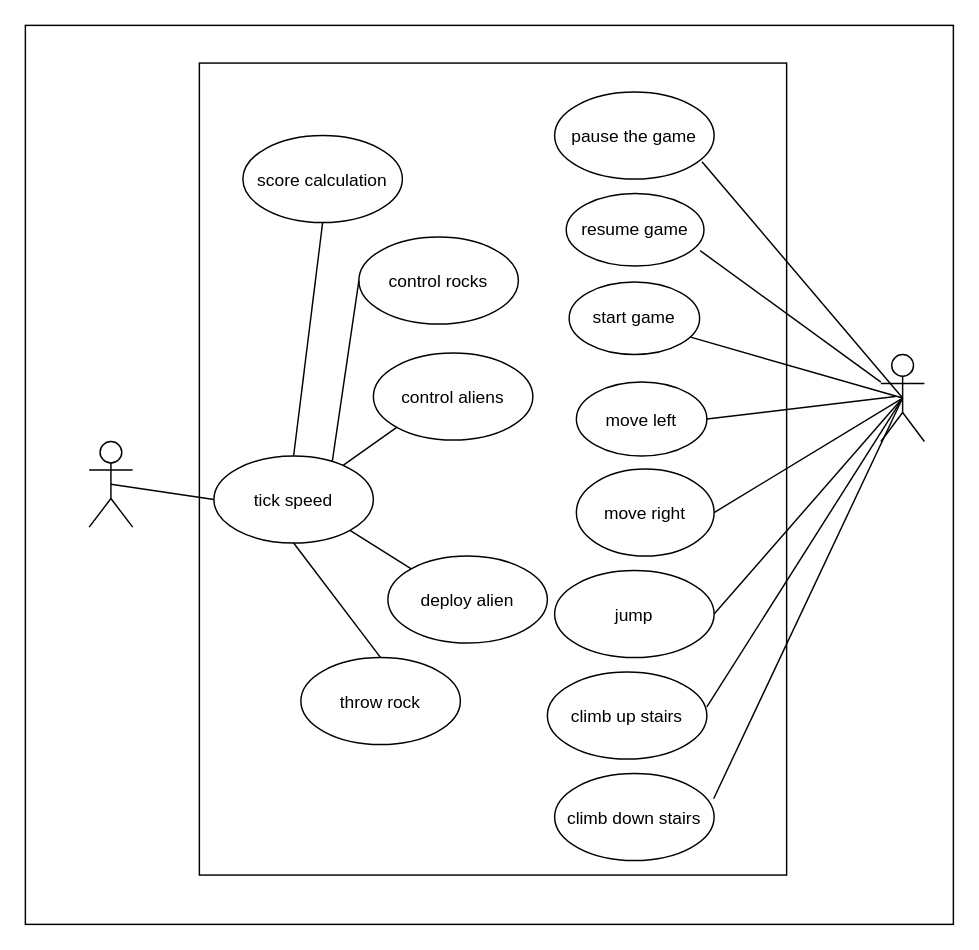
Some shapes in this 979 by 950 pixel diagram are drawn without their labels. The shapes that lost their labels are listed below. From the top down, each one's box as (x1, y1, x2, y2) in pixels, then its label:
(879, 353, 924, 442): Player
(88, 440, 133, 527): Computer
